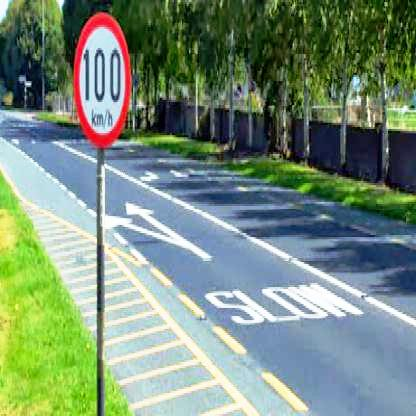Speed Limit -100-: (73, 11, 132, 146)
